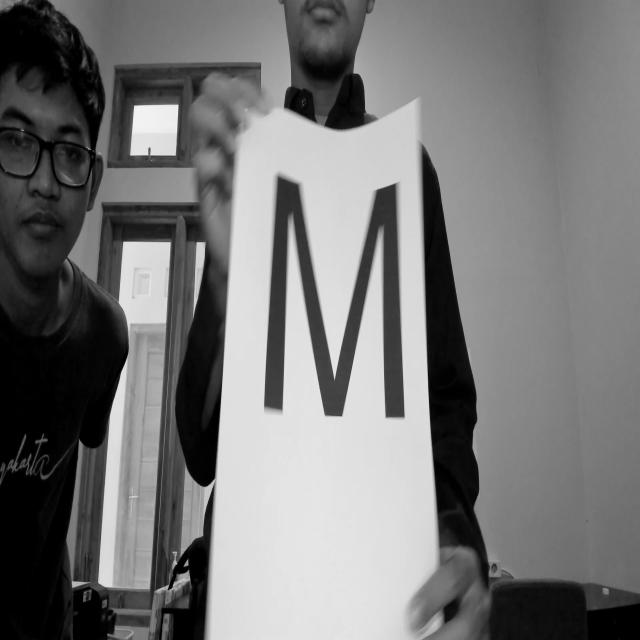m: (243, 139, 423, 461)
